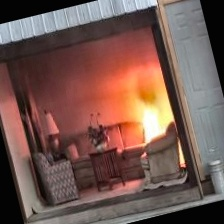fire: (124, 73, 171, 123)
